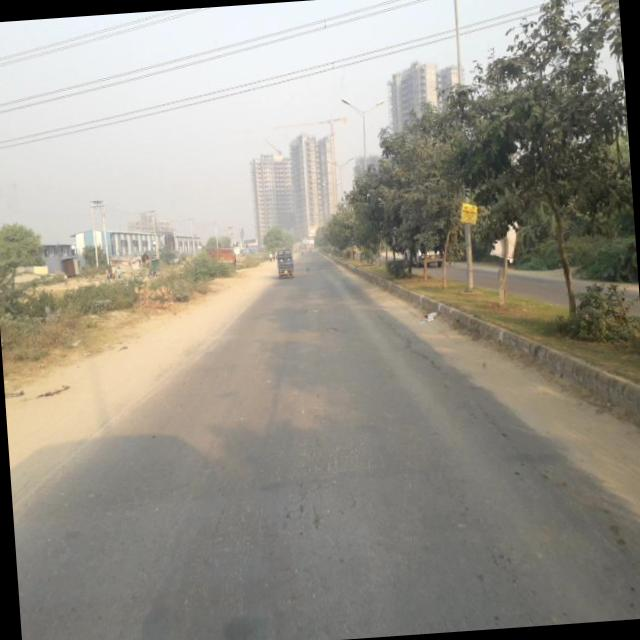crack: (380, 306, 436, 366)
